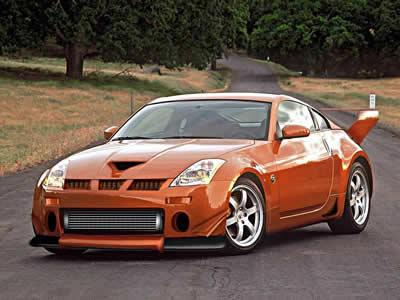small: (29, 89, 379, 256)
